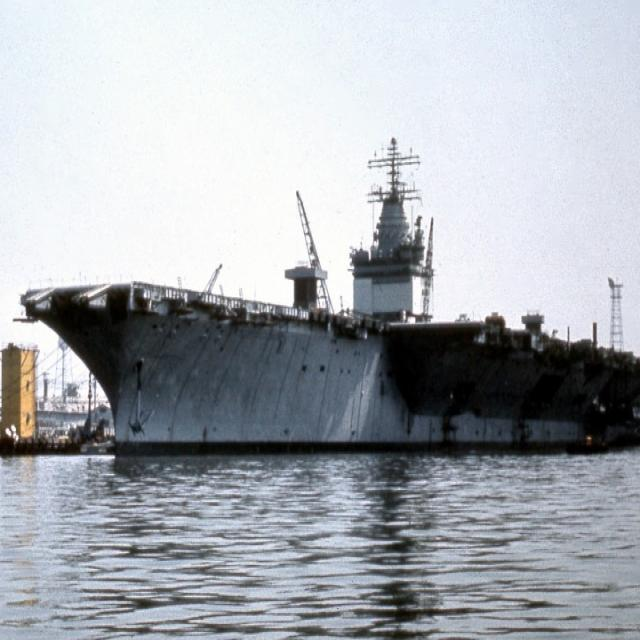Portanaves: (13, 131, 640, 460)
